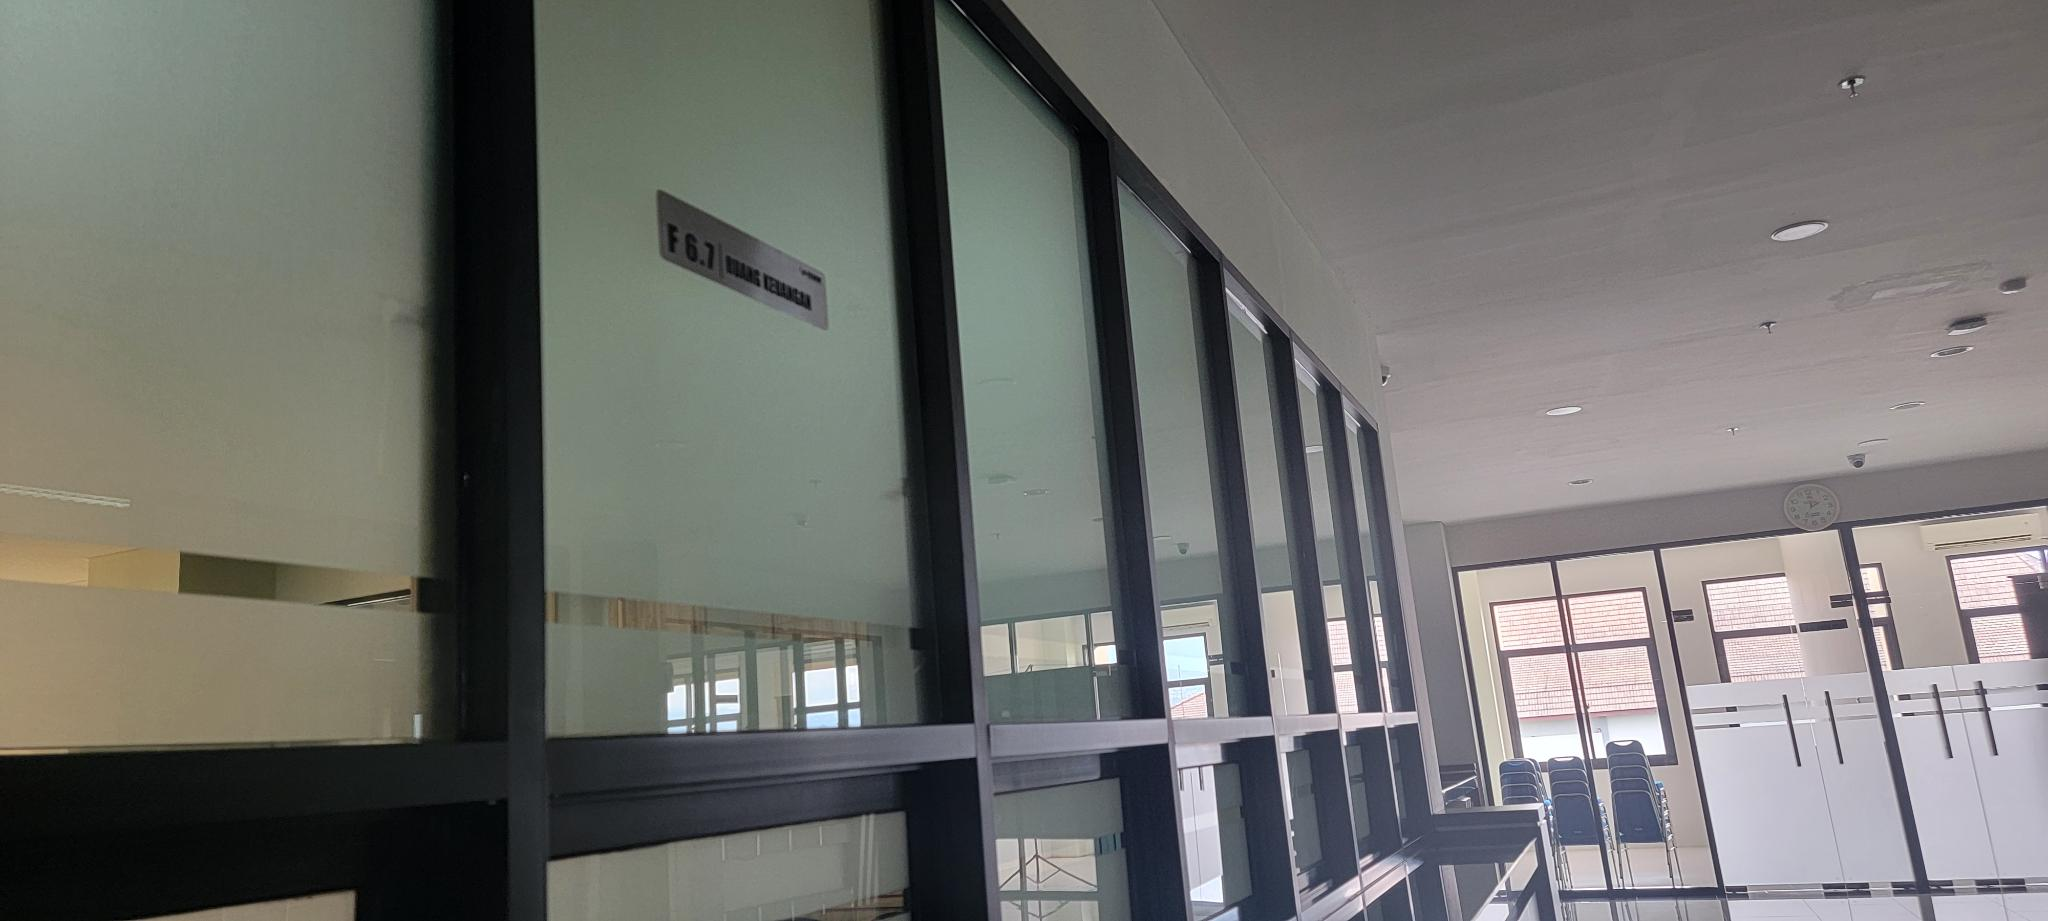plate: (654, 187, 829, 332)
